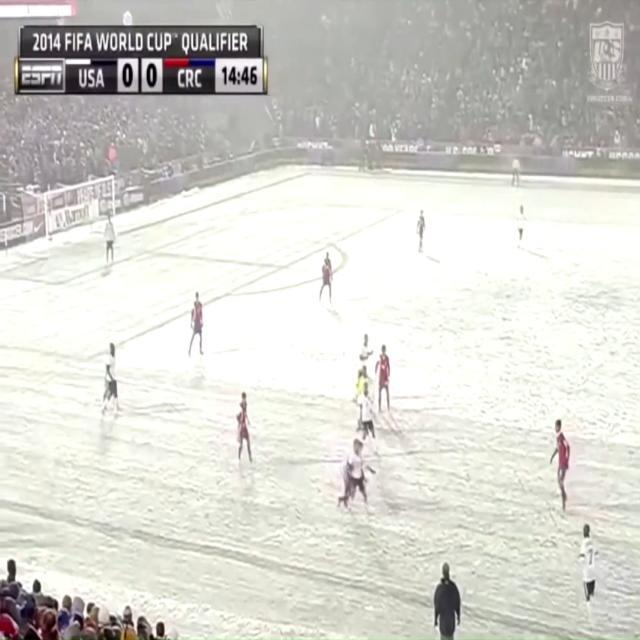ball: (367, 502, 377, 519)
goalkeeper: (101, 210, 121, 267)
player: (575, 520, 607, 637), (550, 401, 578, 521), (101, 339, 124, 425), (235, 391, 258, 471), (339, 440, 363, 511), (375, 337, 396, 415), (351, 438, 369, 517), (187, 289, 207, 360), (359, 383, 377, 445), (514, 200, 530, 258), (319, 259, 332, 304), (416, 206, 427, 257), (360, 332, 374, 369), (323, 251, 334, 288)
referee: (358, 364, 375, 390)
